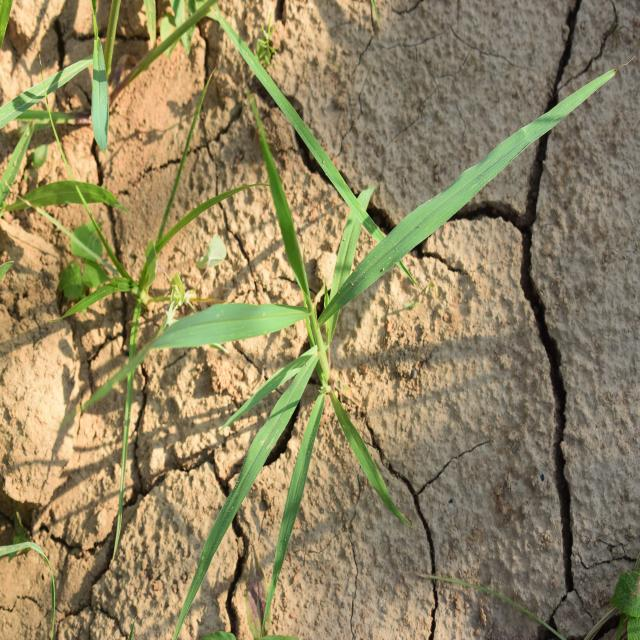green_foxtail: (163, 121, 421, 530)
